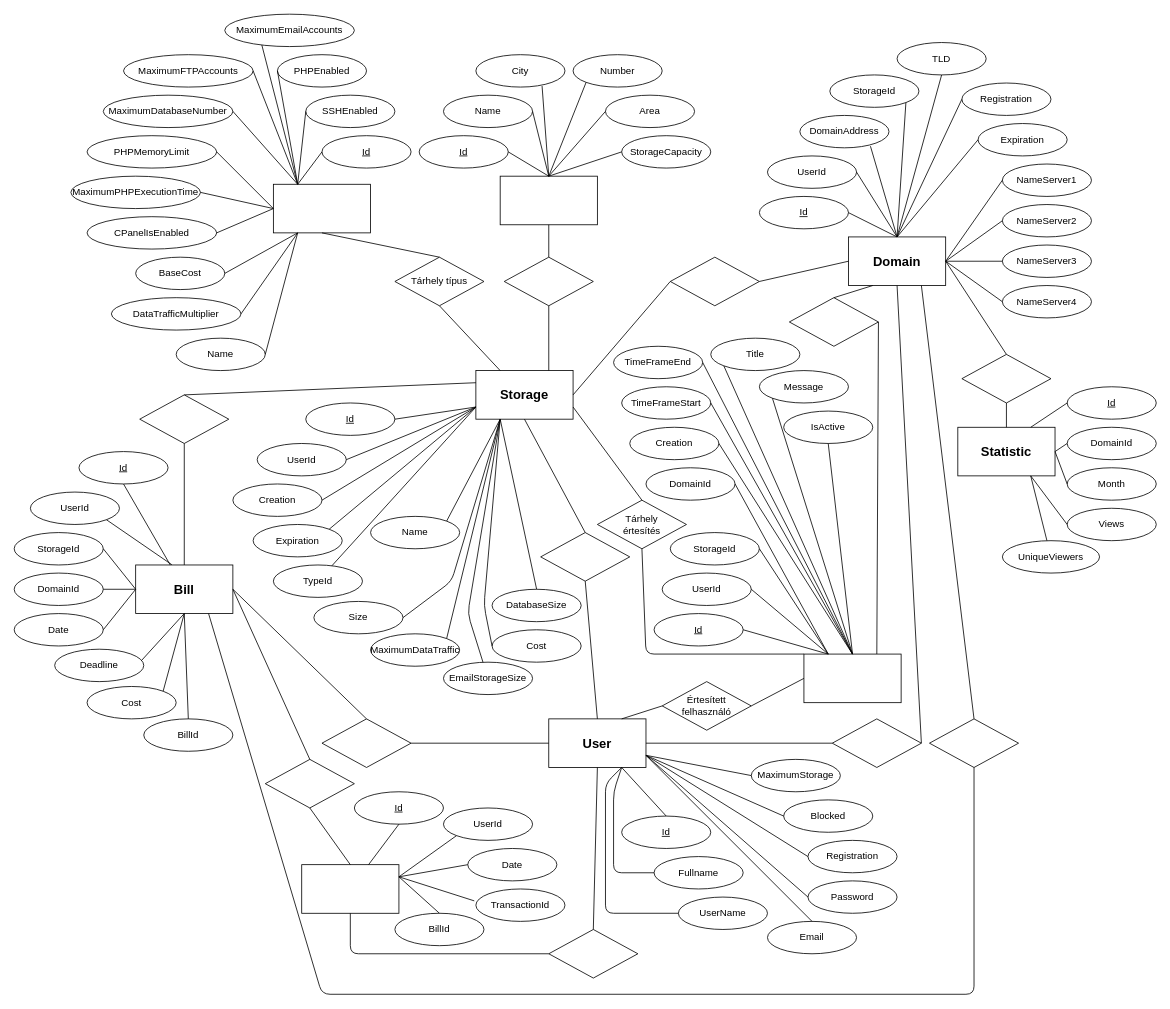
Image size: 1170x1009. Some labels were removed from this diagram. The shapes that lost their labels are listed below. From the top down, each one's centre as x and y in pixels, then its label:
At [322,208]: "StorageType".
At [548,200]: "Datacenter".
At [548,281]: "Tárolás helye".
At [714,281]: "Domain Tárhely kapcsolás".
At [833,321]: "Domain értesítés".
At [1006,378]: "Domain szintű Statisztika".
At [184,418]: "Számlázott tárhely".
At [585,556]: "Tárhely tulajdon".
At [852,678]: "Notification".
At [366,742]: "Számlázás".
At [876,742]: "Domain tulajdon".
At [974,742]: "Számlázott domain".
At [309,783]: "Befizetés".
At [350,888]: "Payment".
At [593,953]: "Befizető".
